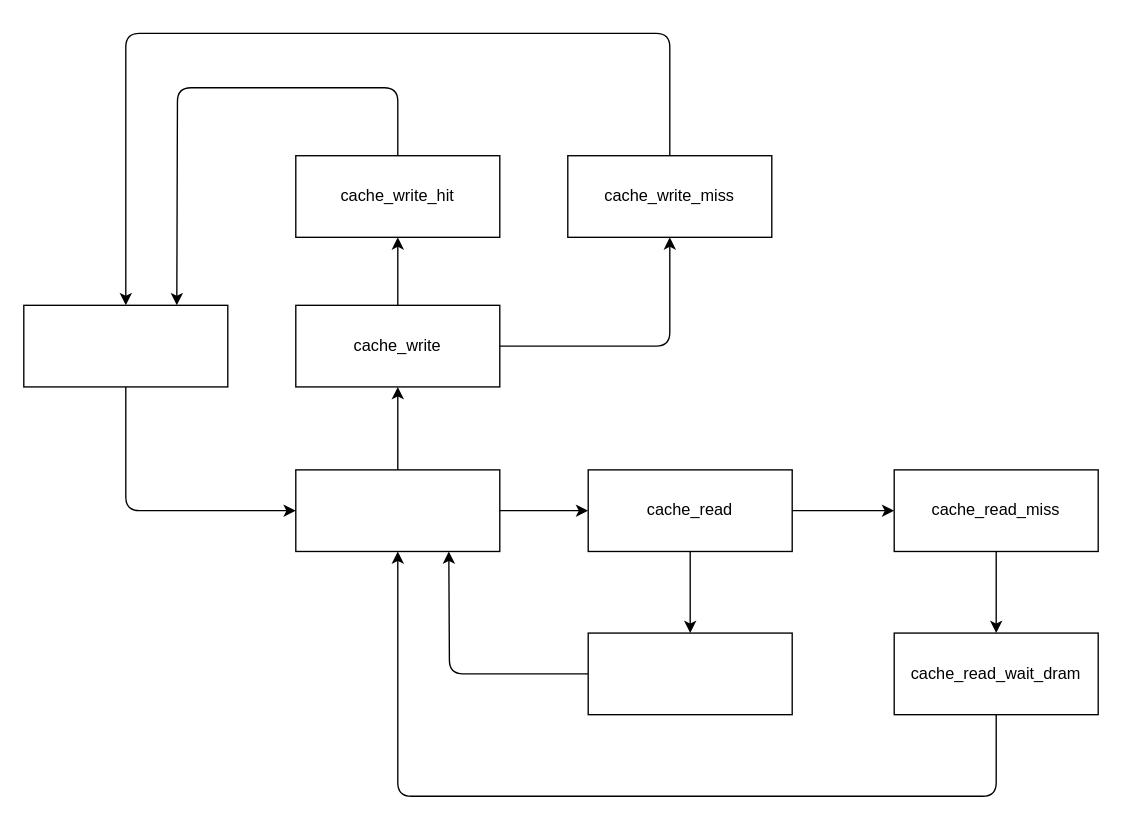
The diagram is 1122 pixels wide and 831 high, and some of its shapes have lost their labels. Here are the shapes that lost their labels. From the top down, the centre of each, then its label:
At point 125,345: "cache_write_wait_dram".
At point 397,510: "cache_idle".
At point 689,673: "cache_read_hit".
